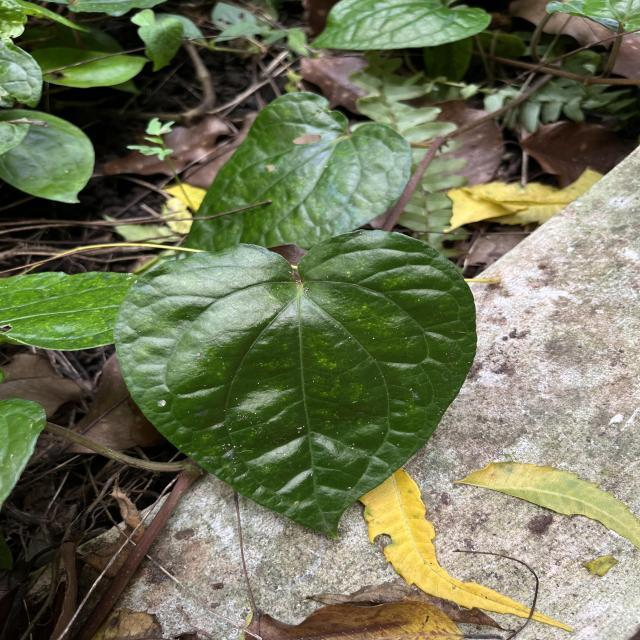Piper betle: (110, 226, 482, 542)
